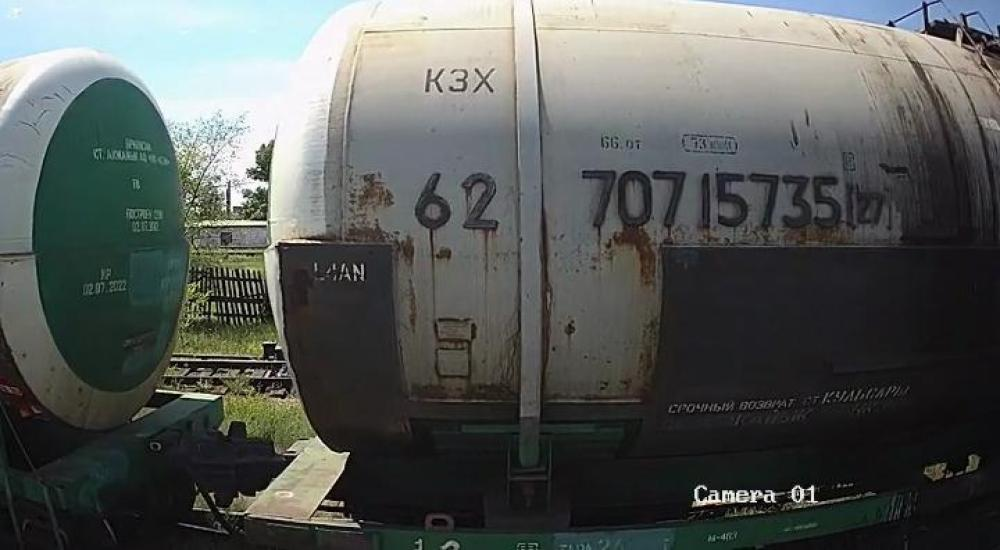Wagon-number: (578, 164, 847, 234)
